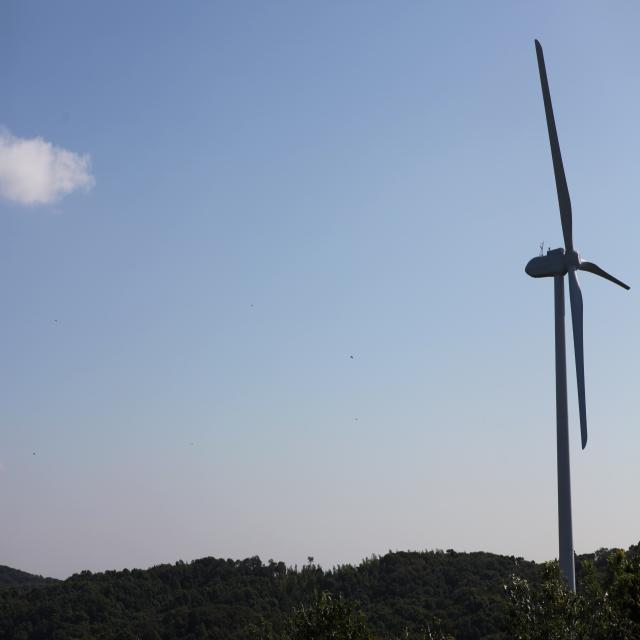bird: (30, 444, 40, 458), (352, 414, 362, 426), (51, 316, 60, 326), (348, 352, 355, 362), (249, 300, 255, 310), (190, 439, 197, 446)
